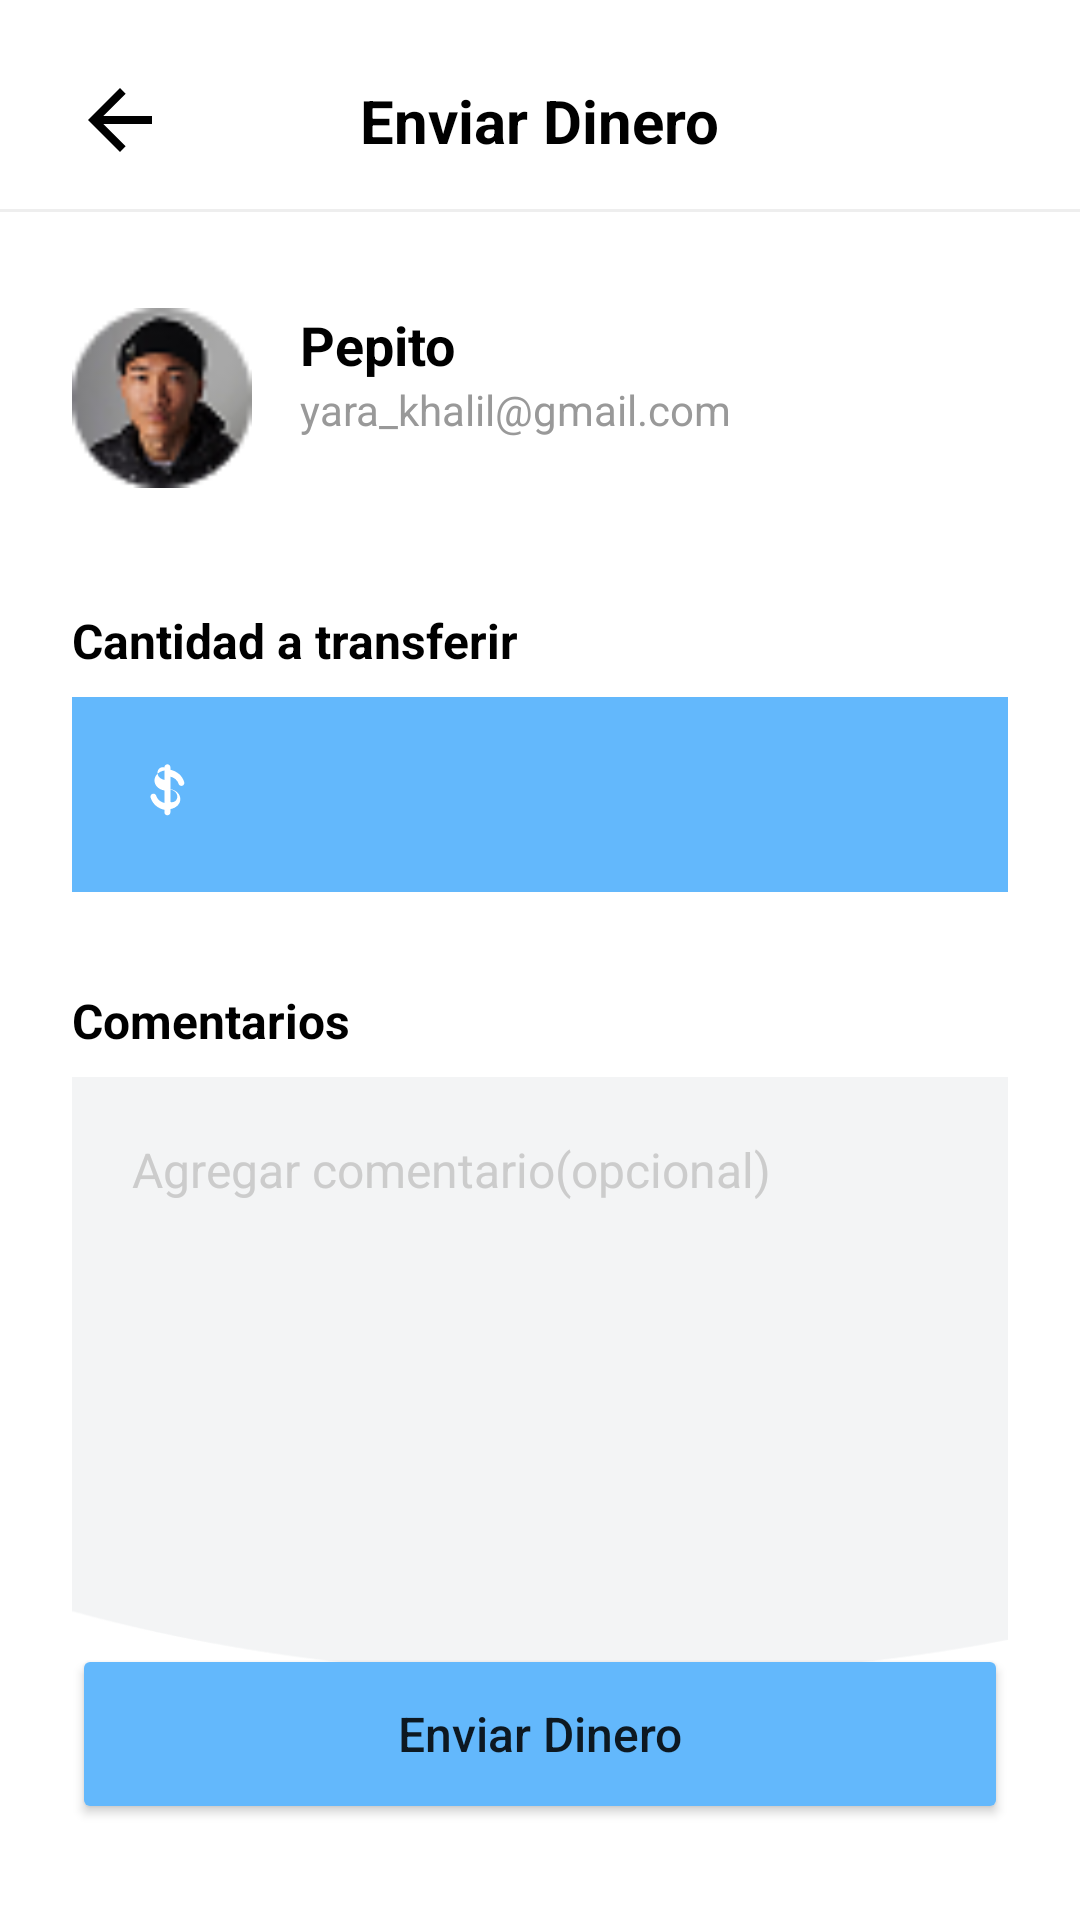

Icon bounding boxes for this 1080×1920 phone screenshot, format [x1,y1,x2,y2]:
back: [88,88,152,152]
